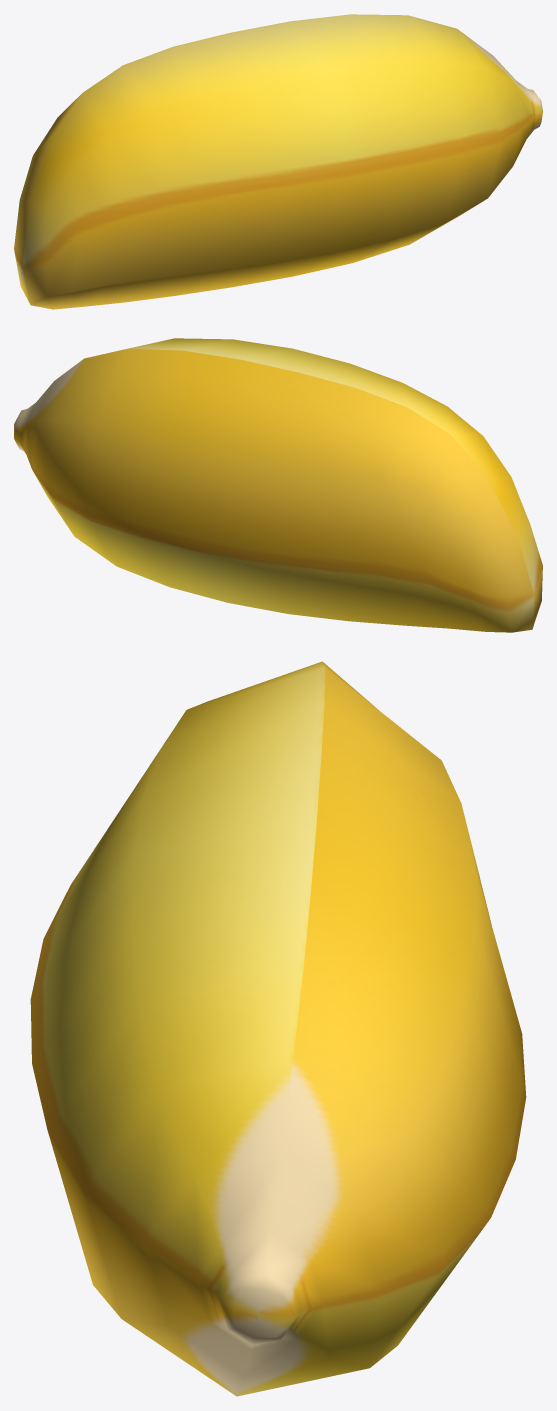
Rendered from Rice1_LOD.fbx.
3 views of the same model, one above another, from view 1: azimuth 30°, elevation 25°; view 2: azimuth 150°, elevation 25°; view 3: azimuth 270°, elevation 25° (orthographic). The views are drawn at different scales.
Parts seen in each view (by area): view 1: Rice1_LOD0; view 2: Rice1_LOD0; view 3: Rice1_LOD0.
Boxes of the visible parts, x1,y1,x2,y2 form: Rice1_LOD0: (14, 14, 542, 309); Rice1_LOD0: (14, 338, 542, 632); Rice1_LOD0: (30, 661, 526, 1396).
Size of what is drawn, in the model's own units: 37.15 by 16.63 by 15.59.
Materials: 1 (1 with a texture image).
